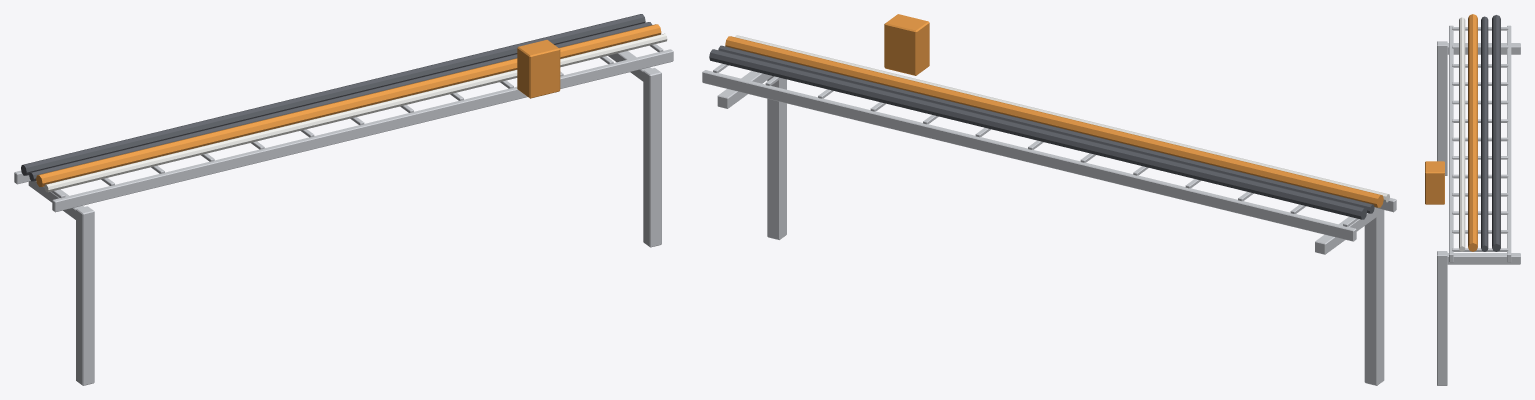
File: offshore-oil-rig-and-platform-cable-tray-bay-b939d751__37032.glb
3 views of the same model, side by side, from view 1: azimuth 30°, elevation 25°; view 2: azimuth 150°, elevation 25°; view 3: azimuth 270°, elevation 25° (orthographic). The views are drawn at different scales.
Visible parts, largest first — view 1: cable-tray-bay; view 2: cable-tray-bay; view 3: cable-tray-bay.
Boxes of the visible parts, bbox=[...] form: cable-tray-bay: bbox=[14, 14, 673, 385]; cable-tray-bay: bbox=[702, 14, 1396, 385]; cable-tray-bay: bbox=[1425, 14, 1520, 385].
Size of the model in its own units: 6 by 2.12 by 1.06.
